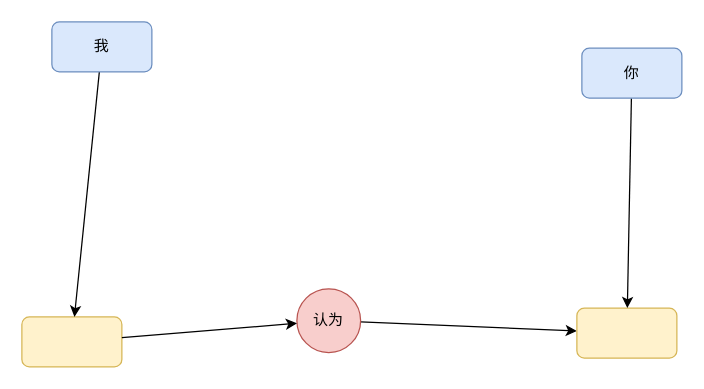
The diagram is 704 pixels wide and 389 high, and some of its shapes have lost their labels. The box of each missing label's shape, as (x1, y1, x2, y2) in pixels:
主体: (21, 316, 122, 367)
客体: (576, 307, 677, 358)
